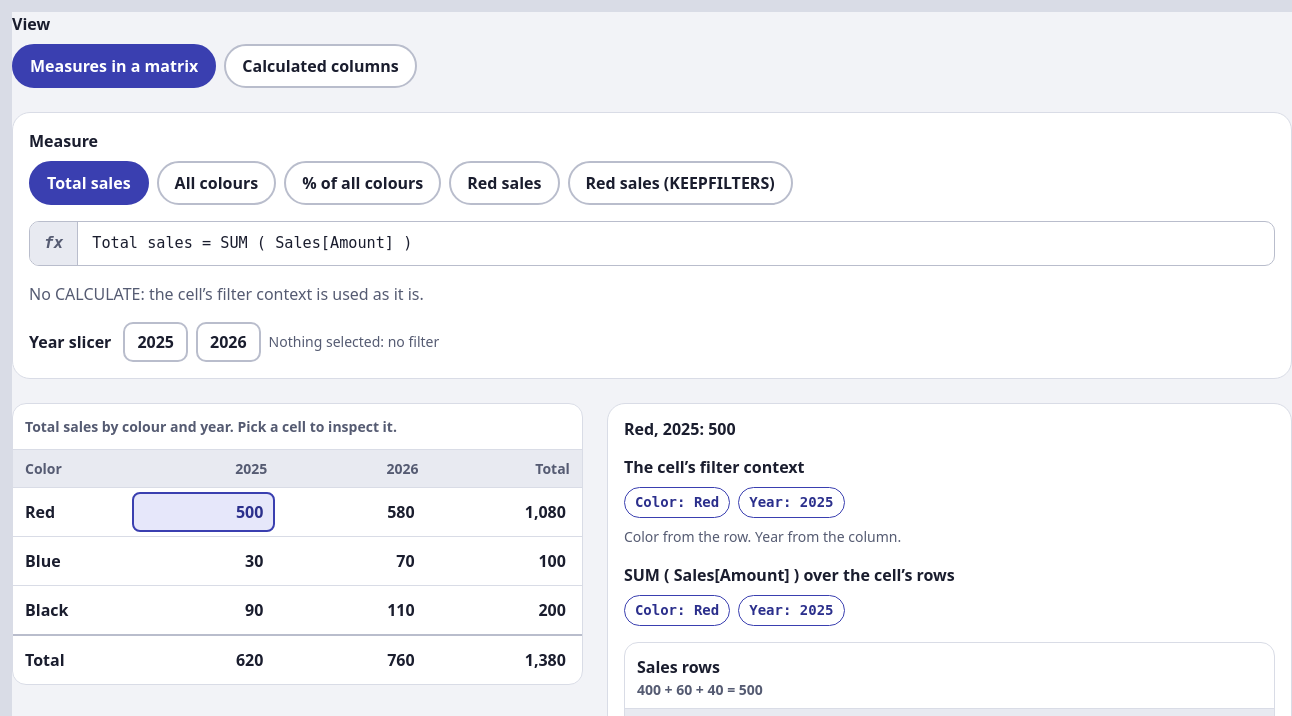
Test: Filter context simulator › shows CALCULATE replacing a filter, and KEEPFILTERS intersecting
The width and height of the screenshot is (1292, 716).
Click the radio button labelled "Red sales" at (504, 183), box [449, 161, 560, 205]
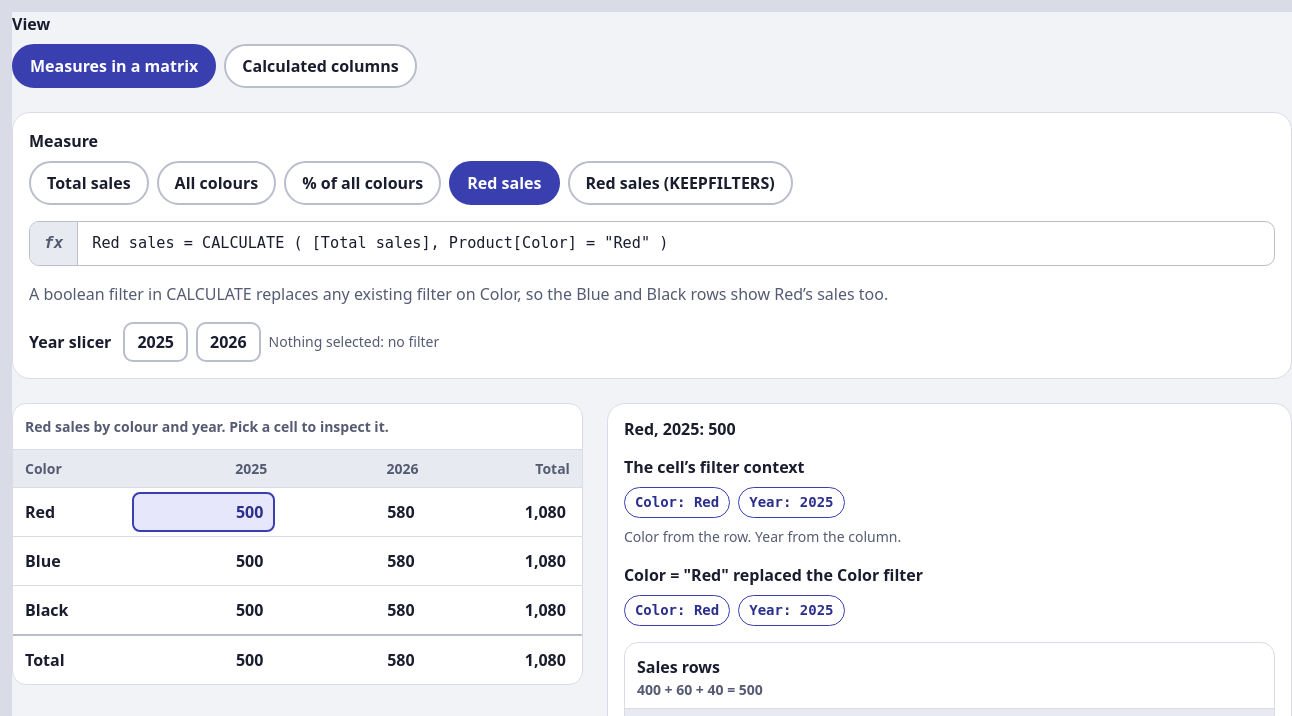
Click the button named "Blue, Total: 1,080" at (506, 561), box [435, 541, 578, 581]
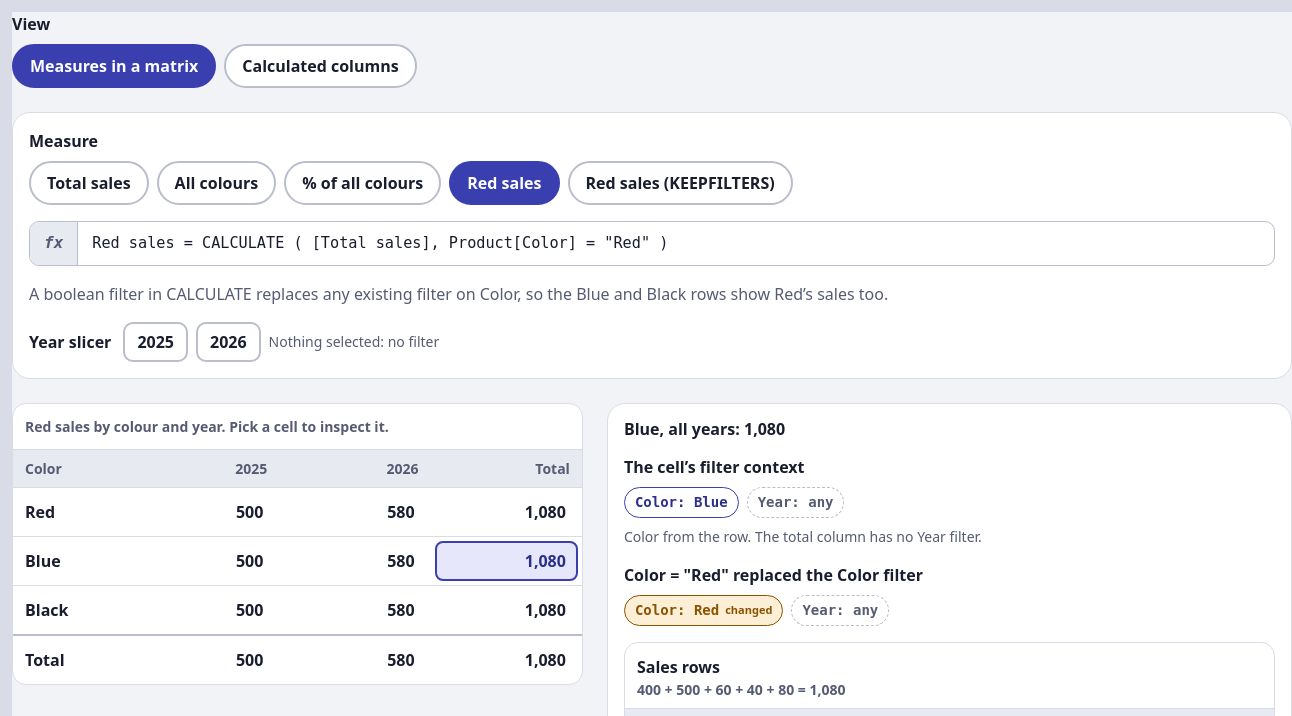
Check: the list item "Color: Red" shows "changed", box [725, 602, 772, 617]
Click the radio button labelled "Red sales (KEEPFILTERS)" at (680, 183), box [568, 161, 793, 205]
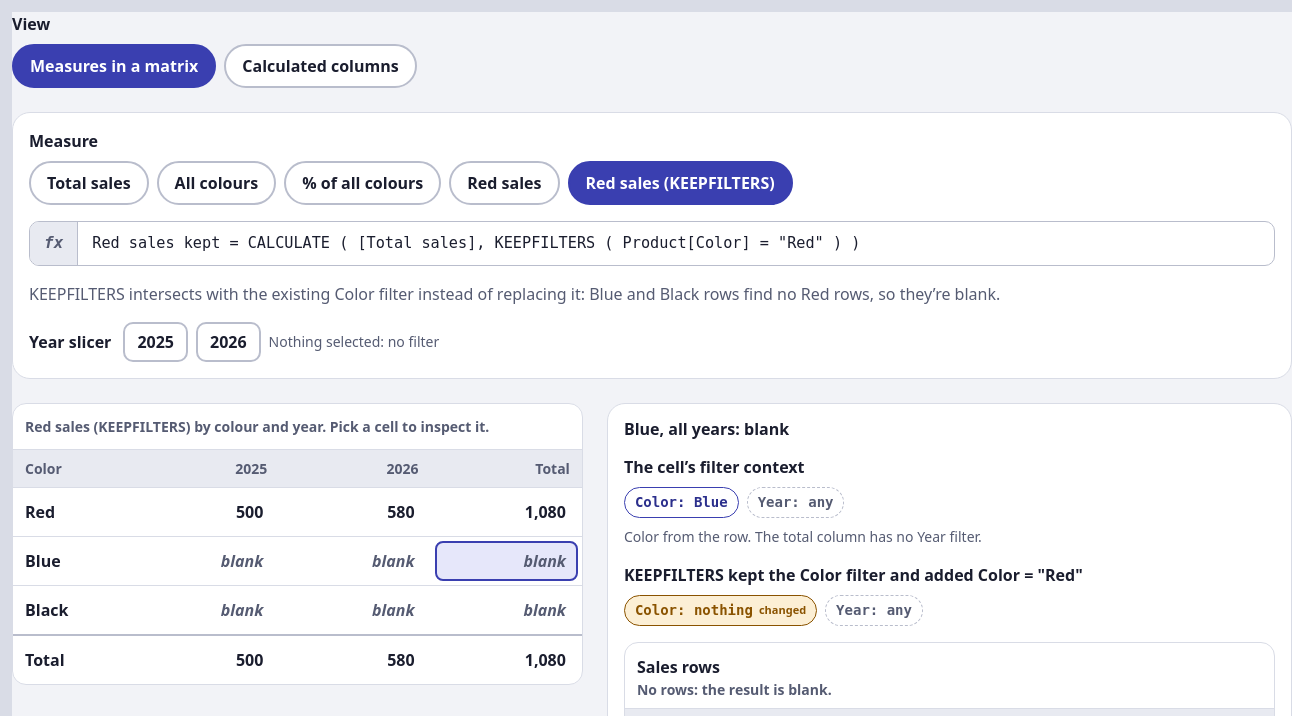
Check: the button with aria-label "Blue, Total: blank" is shown, box [435, 541, 578, 581]
Check: the text "No rows: the result is blank." is shown, box [637, 680, 832, 699]
